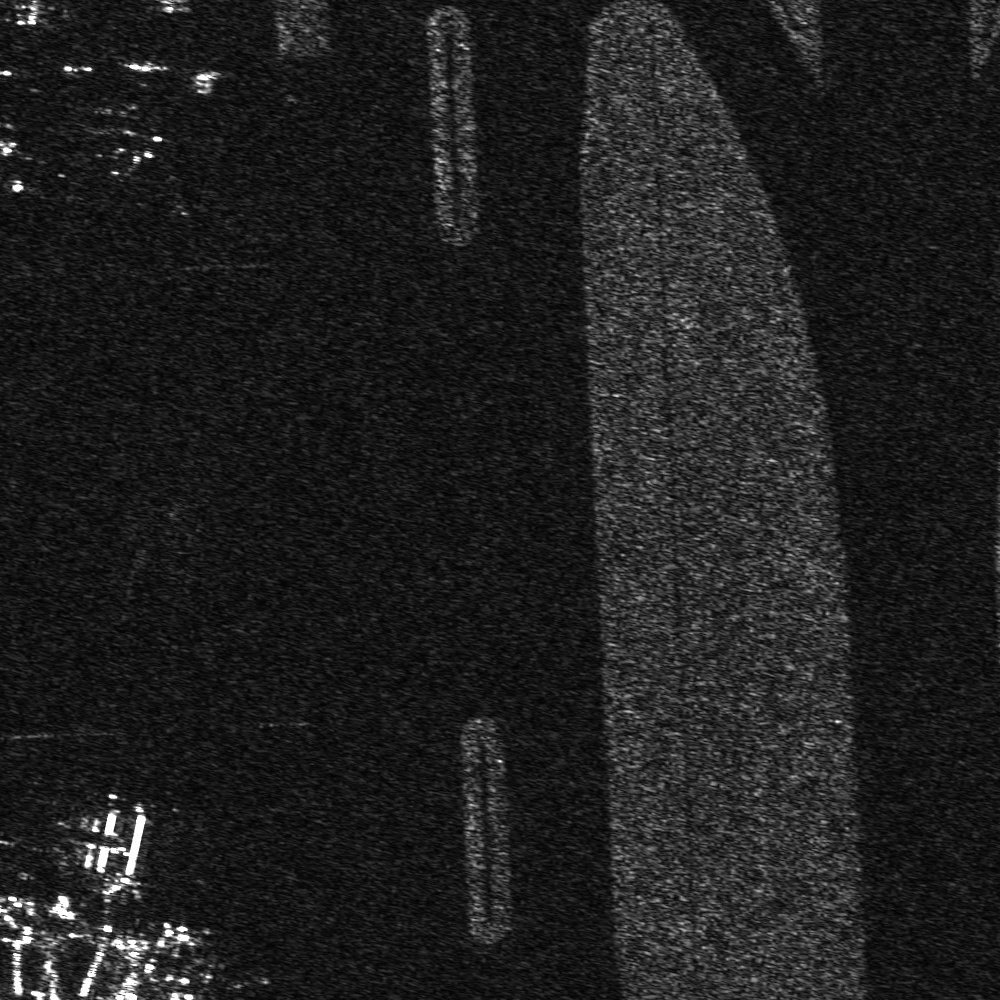Boeing737: (96, 109, 171, 173)
